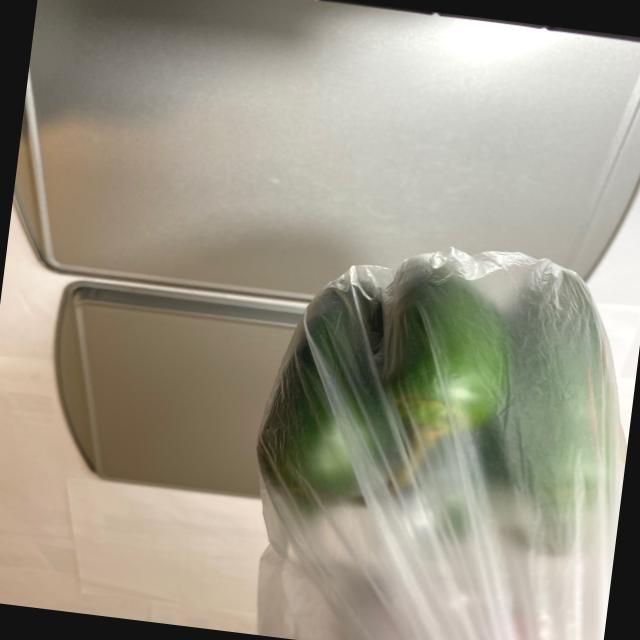chilli: (231, 228, 640, 599)
